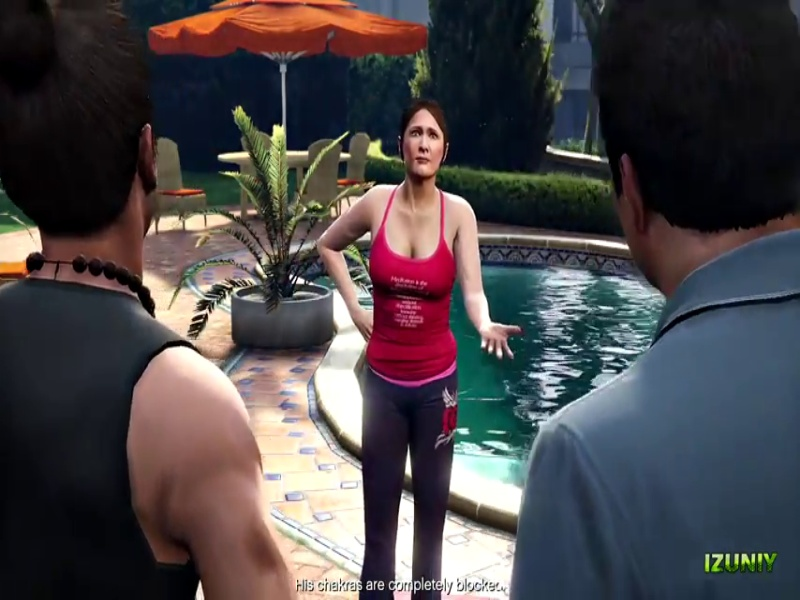human: (297, 104, 524, 585)
